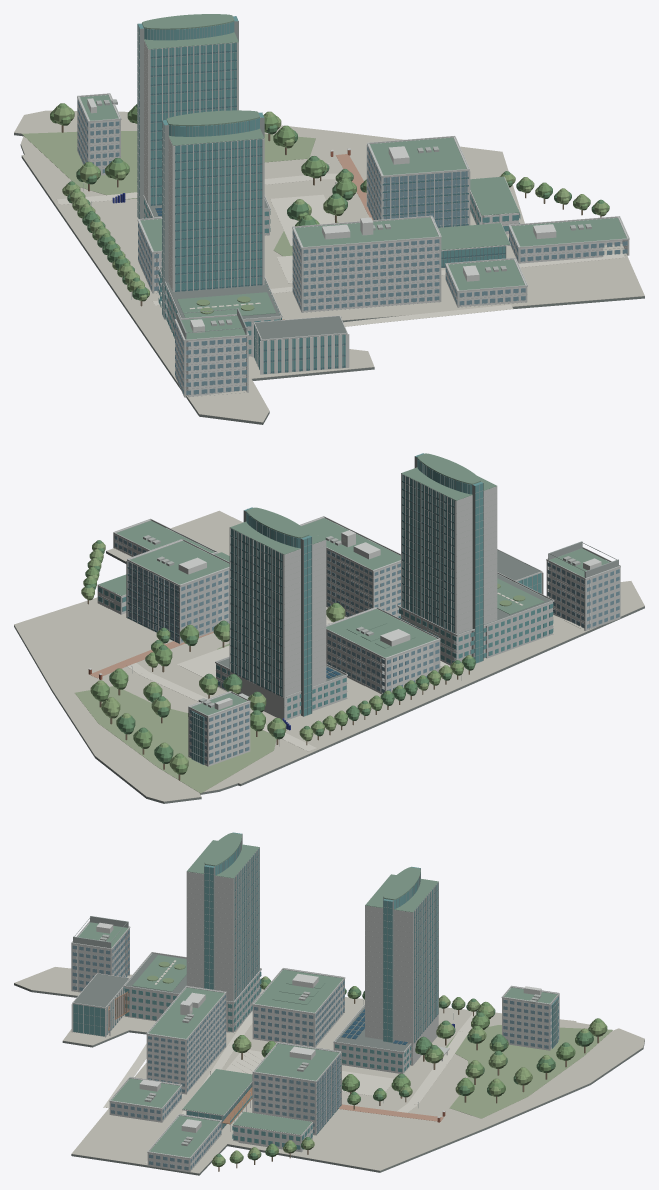
File: tsudanuma-campus.glb
3 renders of one model, top to bottom at view 1: azimuth 30°, elevation 25°; view 2: azimuth 150°, elevation 25°; view 3: azimuth 270°, elevation 25°, orthographic. The views are drawn at different scales.
Parts seen in each view (by area): view 1: Site_Base, Building_02, Building_04, Building_01, Building_07, Landscape_Ground, Landscape_Trees, Building_08, Building_09, Campus_Annex_745, Campus_Annex_785, Building_05 (+2 smaller); view 2: Site_Base, Building_02, Building_01, Landscape_Trees, Building_07, Landscape_Ground, Building_06, Building_04, Building_08, Building_05, Campus_Annex_745, Building_09; view 3: Site_Base, Building_02, Building_01, Landscape_Ground, Building_07, Landscape_Trees, Building_04, Building_06, Building_08, Building_05, Campus_Annex_745, Building_09 (+2 smaller).
Part boxes in pixels (x1=…): Site_Base: x1=14, y1=110, x2=644, y2=424; Building_02: x1=158, y1=110, x2=282, y2=356; Building_04: x1=292, y1=215, x2=441, y2=312; Building_01: x1=137, y1=14, x2=270, y2=235; Building_07: x1=366, y1=136, x2=520, y2=234; Landscape_Ground: x1=22, y1=131, x2=624, y2=326; Landscape_Trees: x1=50, y1=103, x2=609, y2=306; Building_08: x1=174, y1=308, x2=249, y2=397; Building_09: x1=252, y1=315, x2=349, y2=374; Campus_Annex_745: x1=508, y1=216, x2=629, y2=263; Campus_Annex_785: x1=445, y1=258, x2=527, y2=307; Building_05: x1=77, y1=93, x2=121, y2=175; Site_Base: x1=14, y1=510, x2=644, y2=803; Building_02: x1=398, y1=453, x2=554, y2=665; Building_01: x1=215, y1=507, x2=347, y2=720; Landscape_Trees: x1=81, y1=540, x2=475, y2=780; Building_07: x1=97, y1=539, x2=229, y2=643; Landscape_Ground: x1=75, y1=615, x2=450, y2=793; Building_06: x1=326, y1=607, x2=440, y2=694; Building_04: x1=300, y1=516, x2=400, y2=617; Building_08: x1=546, y1=541, x2=620, y2=630; Building_05: x1=188, y1=691, x2=250, y2=766; Campus_Annex_745: x1=113, y1=518, x2=217, y2=556; Building_09: x1=497, y1=549, x2=543, y2=594; Site_Base: x1=14, y1=967, x2=644, y2=1175; Building_02: x1=123, y1=832, x2=261, y2=1033; Building_01: x1=333, y1=866, x2=449, y2=1073; Landscape_Ground: x1=103, y1=1011, x2=612, y2=1163; Building_07: x1=232, y1=1042, x2=341, y2=1152; Landscape_Trees: x1=212, y1=976, x2=607, y2=1171; Building_04: x1=146, y1=986, x2=226, y2=1094; Building_06: x1=252, y1=968, x2=345, y2=1047; Building_08: x1=71, y1=916, x2=130, y2=992; Building_05: x1=501, y1=985, x2=559, y2=1050; Campus_Annex_745: x1=147, y1=1114, x2=221, y2=1172; Building_09: x1=71, y1=973, x2=129, y2=1037.
Bounding box in the file's own units: 268 × 100 × 344.
